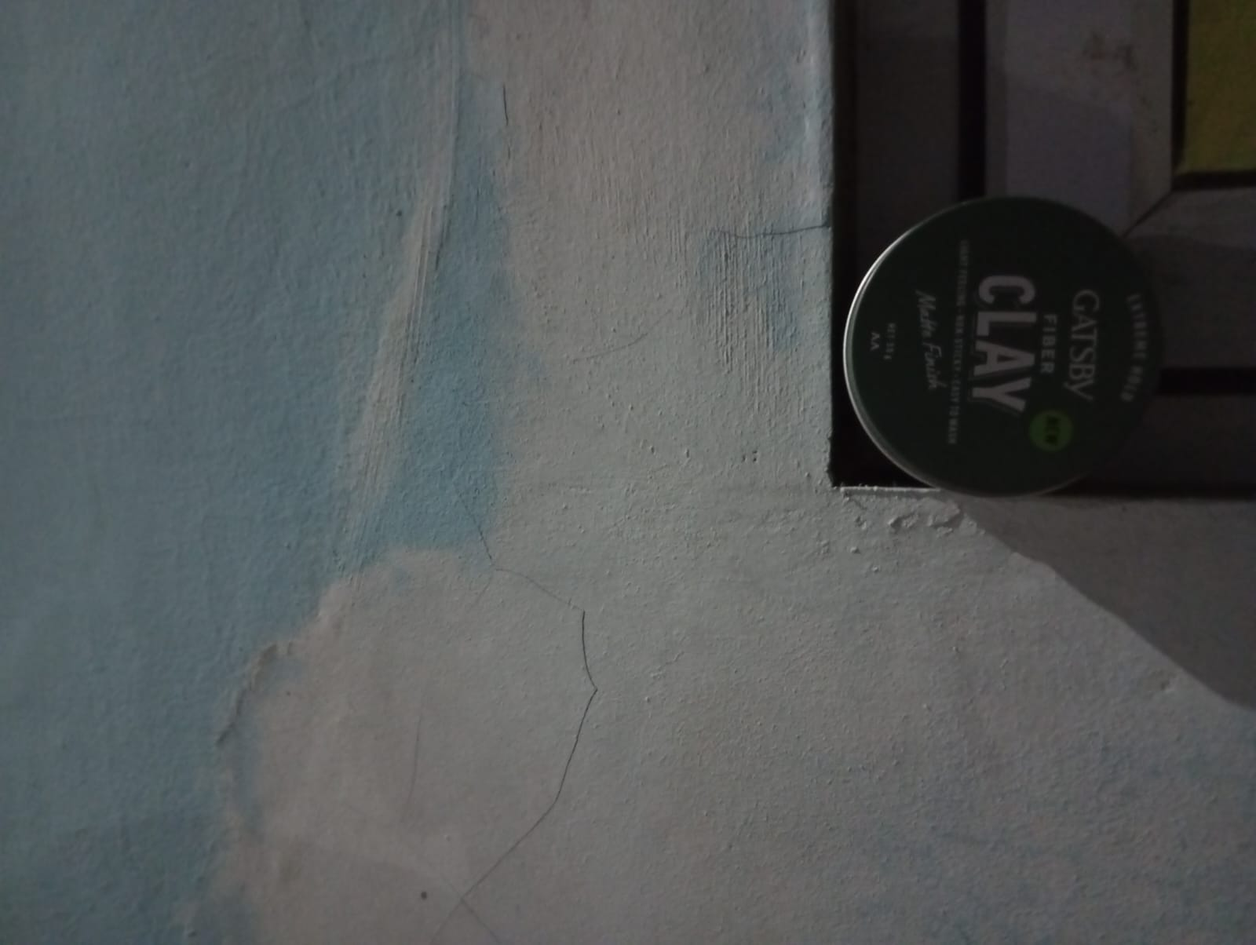Minyak_Rambut: (825, 175, 1191, 493)
